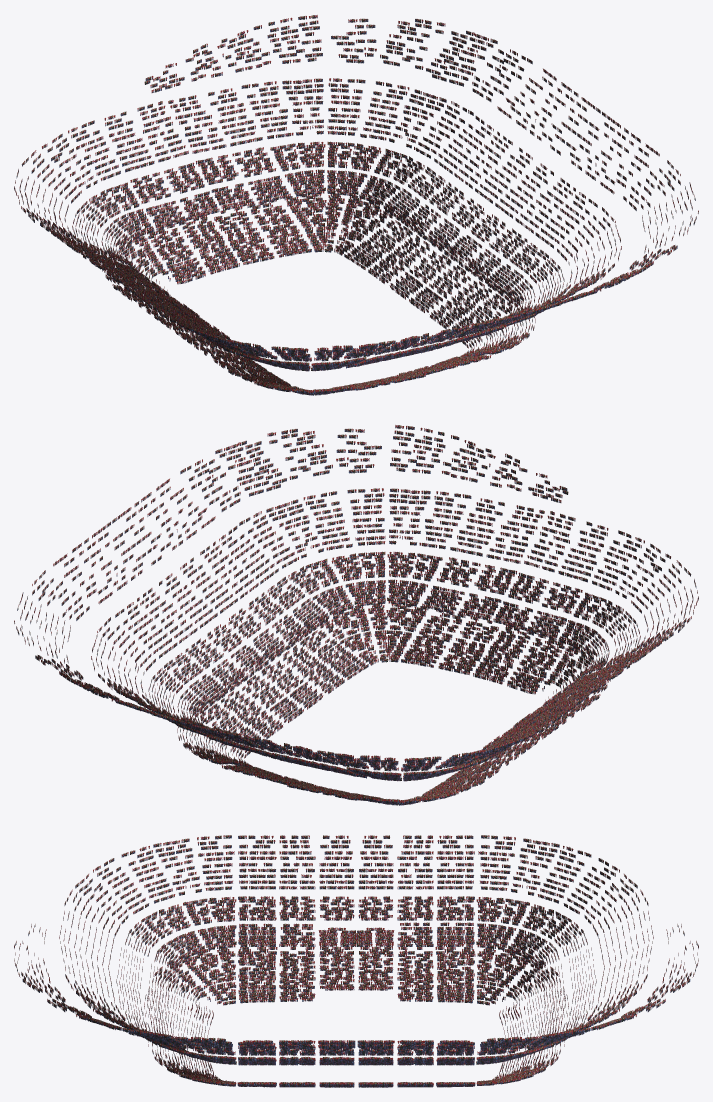
File: st_080_people.fbx
3 renders of one model, top to bottom at view 1: azimuth 30°, elevation 25°; view 2: azimuth 150°, elevation 25°; view 3: azimuth 270°, elevation 25°, orthographic. The views are drawn at different scales.
Parts seen in each view (by area): view 1: st_080_People; view 2: st_080_People; view 3: st_080_People.
Part boxes in pixels (<box>): st_080_People: <box>14,15,698,395</box>; st_080_People: <box>14,425,698,805</box>; st_080_People: <box>14,835,698,1087</box>.
Size of the model in its own units: 247 by 68.46 by 301.
